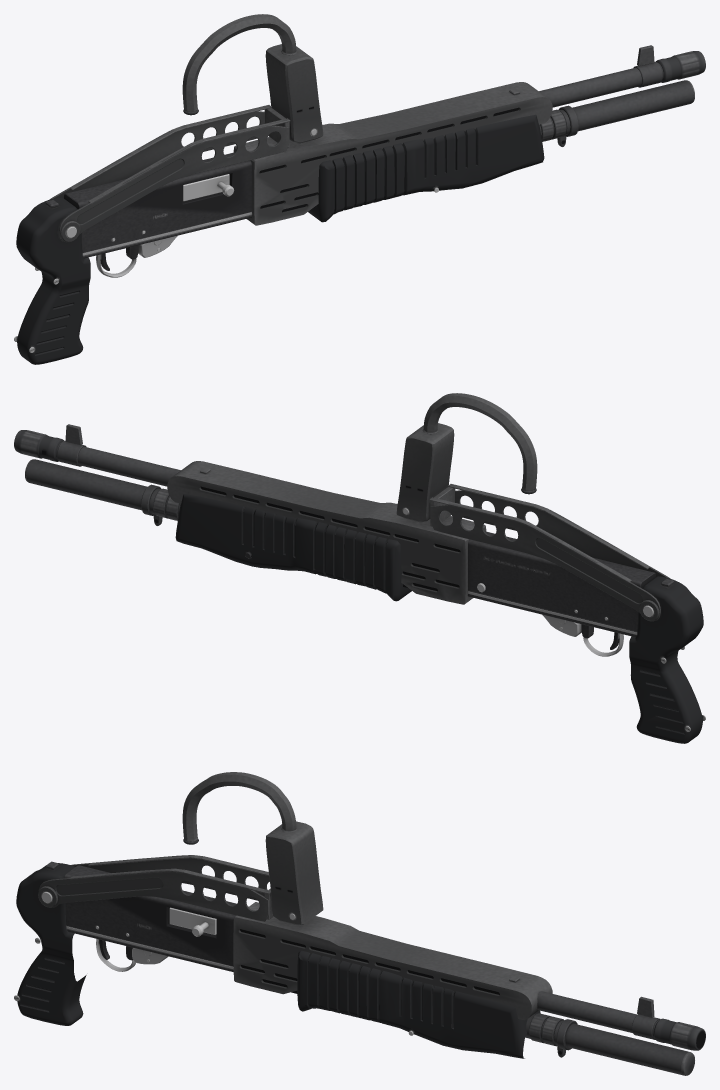
The model's file is spas12.gltf.
3 renders of one model, top to bottom at view 1: azimuth 30°, elevation 25°; view 2: azimuth 150°, elevation 25°; view 3: azimuth 330°, elevation 25°, orthographic.
Visible parts, largest first — view 1: body, pump, bolt; view 2: body, pump; view 3: body, pump, bolt.
Boxes of the visible parts, x1,y1,x2,y2 form: body: (14,14,705,364); pump: (308,114,544,222); bolt: (183,174,234,201); body: (14,393,705,743); pump: (175,494,411,601); body: (14,772,705,1075); pump: (297,950,540,1058); bolt: (169,907,216,936).
Bounding box in the file's own units: 0.8109 × 0.3323 × 0.0645.
1 material, 1 textured.
